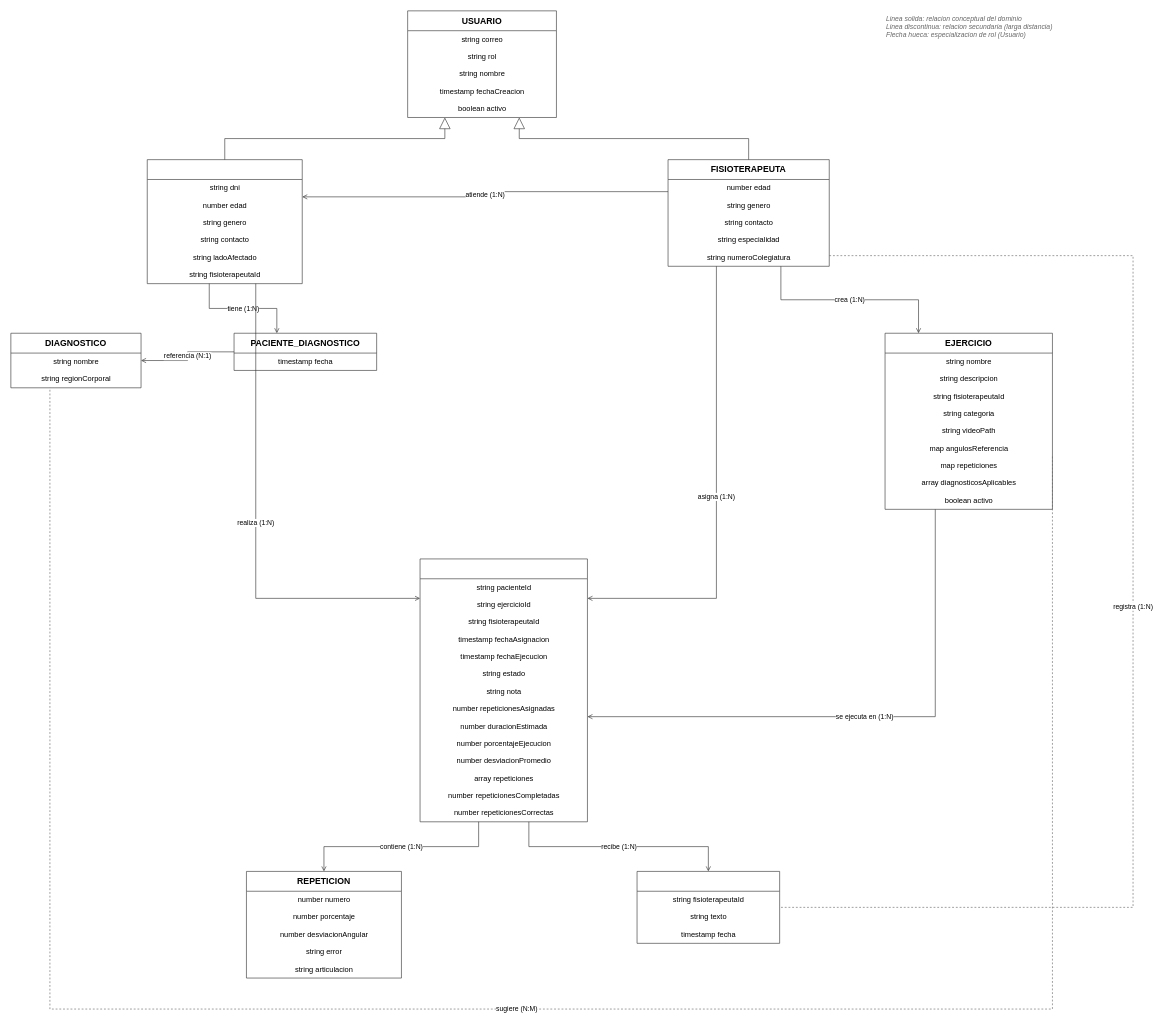
The diagram is 1164 pixels wide and 1024 high, and some of its shapes have lost their labels. The box of each missing label's shape, as (x1, y1, x2, y2) in pixels:
OBSERVACION: (636, 871, 780, 943)
PACIENTE: (147, 159, 302, 284)
SESION: (419, 558, 587, 822)
